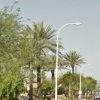Palm tree: (21, 15, 52, 99)
